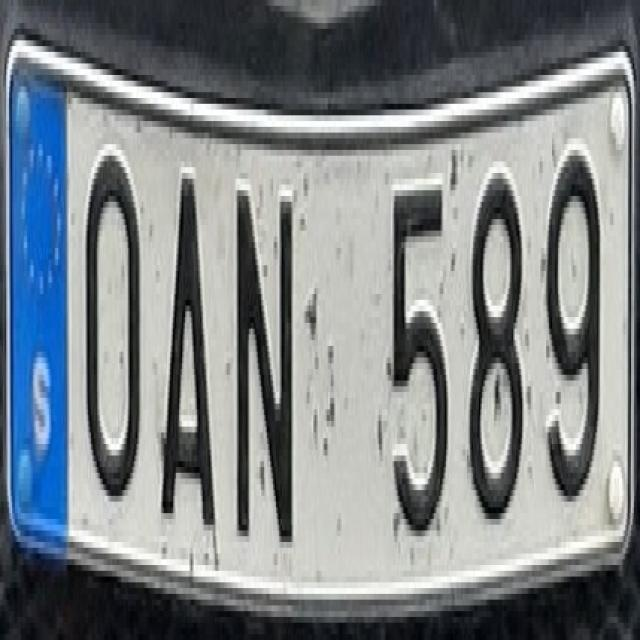0: (76, 126, 143, 514)
5: (377, 167, 449, 536)
8: (458, 138, 530, 525)
9: (537, 132, 604, 508)
A: (152, 138, 221, 525)
N: (226, 167, 302, 548)
